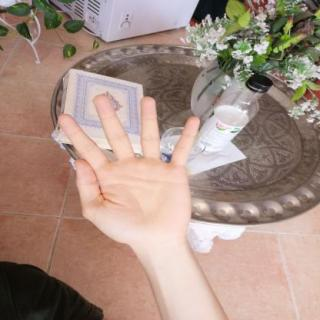SHEEN: (48, 87, 210, 255)
